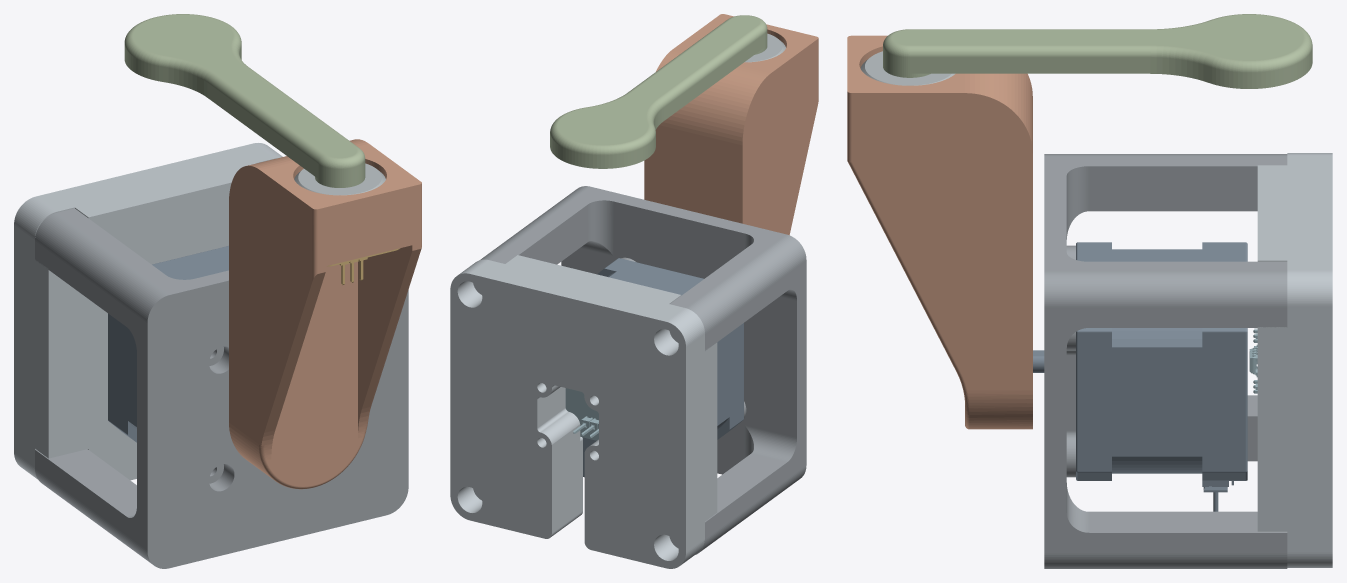
File: assembly.glb
3 views of the same model, side by side, from view 1: azimuth 30°, elevation 25°; view 2: azimuth 150°, elevation 25°; view 3: azimuth 270°, elevation 25° (orthographic). The views are drawn at different scales.
Visible parts, largest first — view 1: 3_MotorHolder:1, 5_Arm:1, 4_Bottom:1, 7_PendulumArm:1, 0_17HE15-1504S v1:1, 6_Bearing:1; view 2: 4_Bottom:1, 3_MotorHolder:1, 5_Arm:1, 7_PendulumArm:1, 0_17HE15-1504S v1:1, 1_AS5600 v1:1, 6_Bearing:1; view 3: 3_MotorHolder:1, 5_Arm:1, 0_17HE15-1504S v1:1, 4_Bottom:1, 7_PendulumArm:1, 6_Bearing:1.
Boxes of the visible parts, x1,y1,x2,y2 form: 3_MotorHolder:1: (35,208,408,568); 5_Arm:1: (229,139,421,489); 4_Bottom:1: (14,143,282,480); 7_PendulumArm:1: (124,14,365,187); 0_17HE15-1504S v1:1: (108,246,228,442); 6_Bearing:1: (294,163,385,195); 4_Bottom:1: (450,255,717,568); 3_MotorHolder:1: (480,186,806,554); 5_Arm:1: (644,14,818,235); 7_PendulumArm:1: (550,15,767,168); 0_17HE15-1504S v1:1: (582,258,743,477); 1_AS5600 v1:1: (565,388,598,440); 6_Bearing:1: (744,33,785,62); 3_MotorHolder:1: (1044,154,1287,568); 5_Arm:1: (847,35,1032,429); 0_17HE15-1504S v1:1: (1033,242,1247,511); 4_Bottom:1: (1257,153,1332,567); 7_PendulumArm:1: (883,14,1312,88); 6_Bearing:1: (860,51,955,85).
Bounding box in the file's own units: 72 × 120 × 107.
